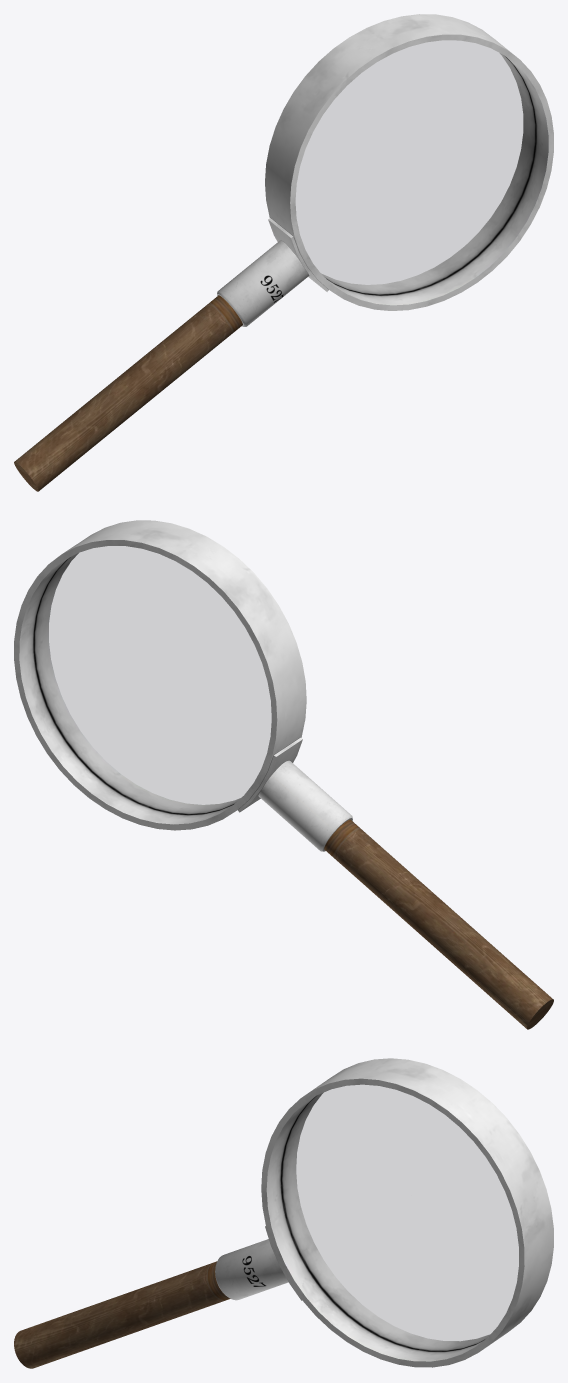
File: Magnifier.glb
The picture shows the model from 3 angles, top to bottom: view 1: azimuth 30°, elevation 25°; view 2: azimuth 150°, elevation 25°; view 3: azimuth 330°, elevation 25°; orthographic projection. The views are drawn at different scales.
Parts seen in each view (by area): view 1: sd_default_0; view 2: sd_default_0; view 3: sd_default_0.
Part boxes in pixels (x1=…): sd_default_0: x1=14, y1=14, x2=553, y2=491; sd_default_0: x1=14, y1=520, x2=553, y2=1029; sd_default_0: x1=14, y1=1058, x2=553, y2=1368.
Bounding box in the file's own units: 0.7886 × 0.5579 × 0.091.
Materials: 1 (1 with a texture image).
